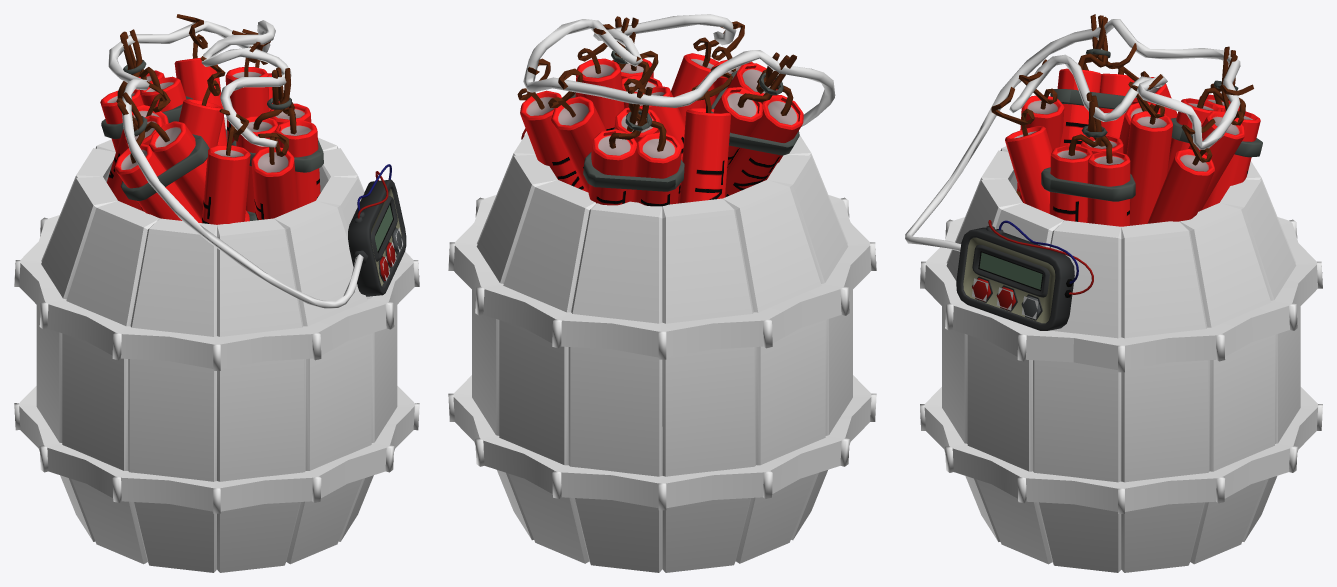
The model's file is Barrel_Detonator_Timer.fbx.
3 renders of one model, left to right at view 1: azimuth 30°, elevation 25°; view 2: azimuth 150°, elevation 25°; view 3: azimuth 270°, elevation 25°, orthographic. The views are drawn at different scales.
Parts seen in each view (by area): view 1: Barrel_Detonator, TNT, Screed, fetil, Body; view 2: Barrel_Detonator, TNT, Screed, fetil; view 3: Barrel_Detonator, TNT, Screed, Body, fetil, Dial.
Boxes of the visible parts, left/top/right/bottom form: Barrel_Detonator: left=36, top=117, right=397, bottom=572; TNT: left=100, top=14, right=323, bottom=224; Screed: left=14, top=215, right=419, bottom=513; fetil: left=108, top=20, right=363, bottom=308; Body: left=348, top=164, right=406, bottom=296; Barrel_Detonator: left=472, top=132, right=852, bottom=572; TNT: left=517, top=16, right=803, bottom=206; Screed: left=448, top=195, right=876, bottom=510; fetil: left=523, top=14, right=835, bottom=126; Barrel_Detonator: left=942, top=146, right=1300, bottom=572; TNT: left=991, top=14, right=1262, bottom=226; Screed: left=920, top=217, right=1322, bottom=513; Body: left=956, top=220, right=1093, bottom=330; fetil: left=905, top=19, right=1240, bottom=251; Dial: left=979, top=252, right=1042, bottom=289.
Size of what is drawn, in the model's own units: 2.18 by 2.73 by 2.26.
